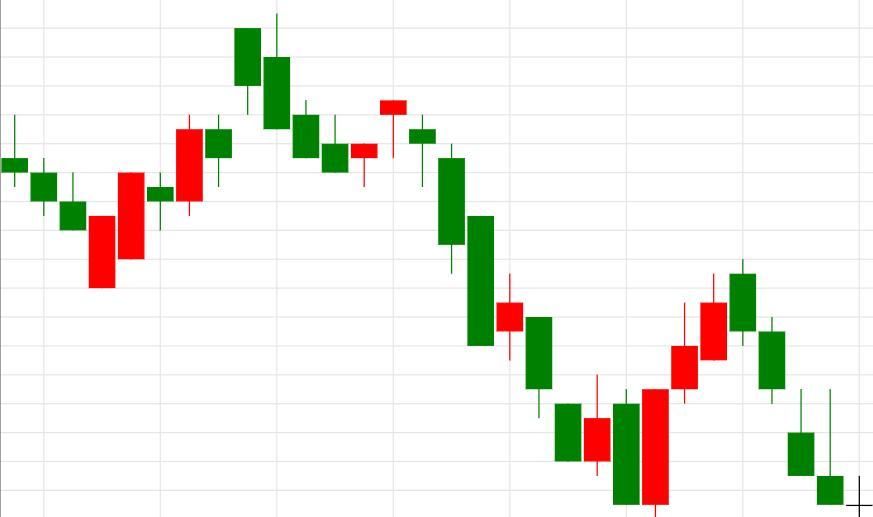bullish_engulfing_rise: (409, 115, 670, 516)
three_black_crows_fall: (89, 13, 319, 288)
